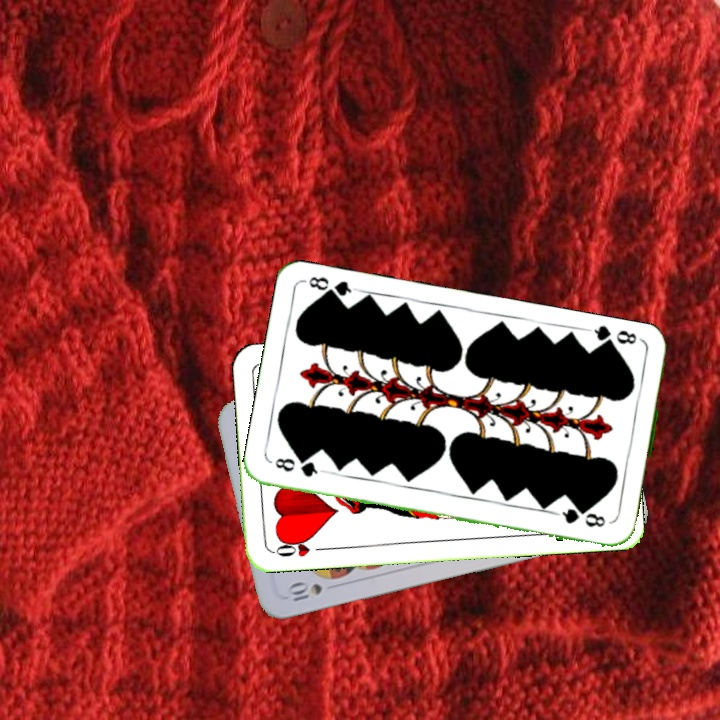G8: (590, 322, 646, 353), (271, 454, 327, 480)
HO: (269, 534, 328, 560)
S10: (284, 579, 325, 604)
